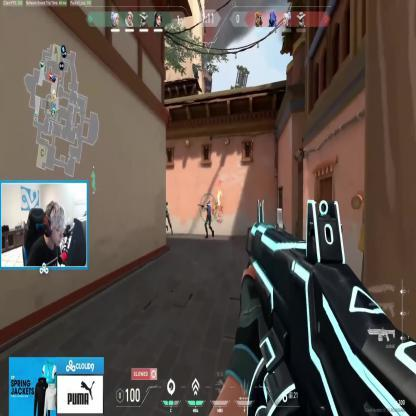enemy: (202, 198, 216, 238), (161, 194, 172, 236)
enemy_head: (206, 199, 210, 206)
